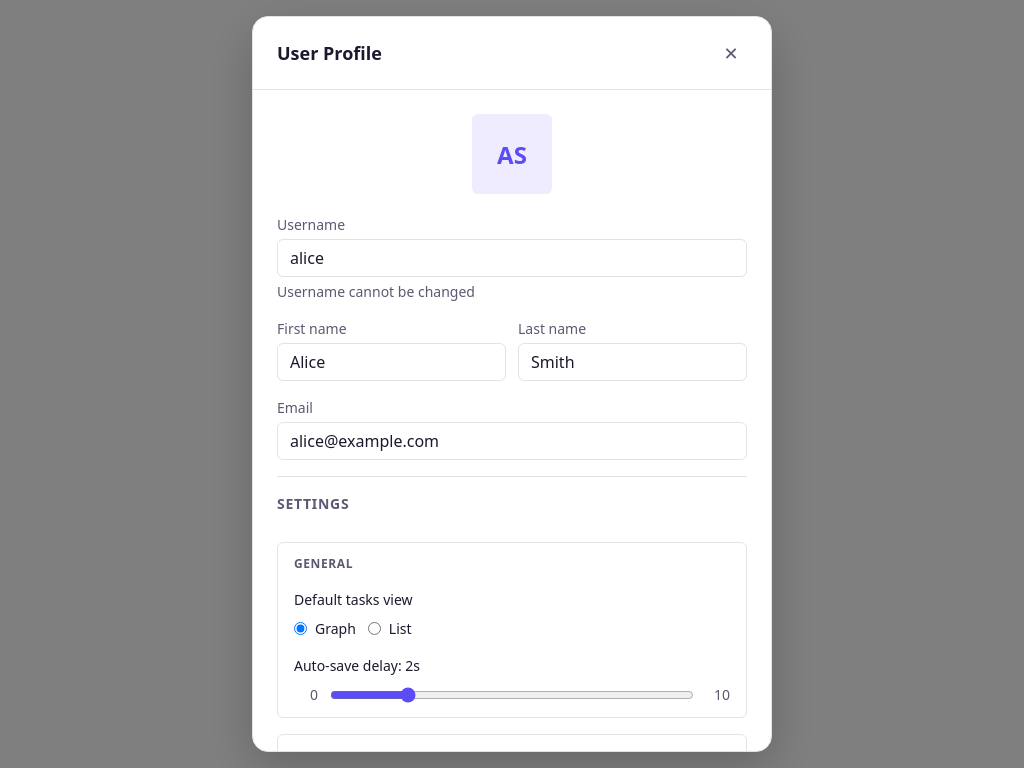
Test: UserProfileModal › shows validation error for invalid email
The image size is (1024, 768).
Replace the text in the field labelled "Email" with "not-an-email" at (512, 441), box x1=277 y1=422 x2=747 y2=460
(page scrolled)
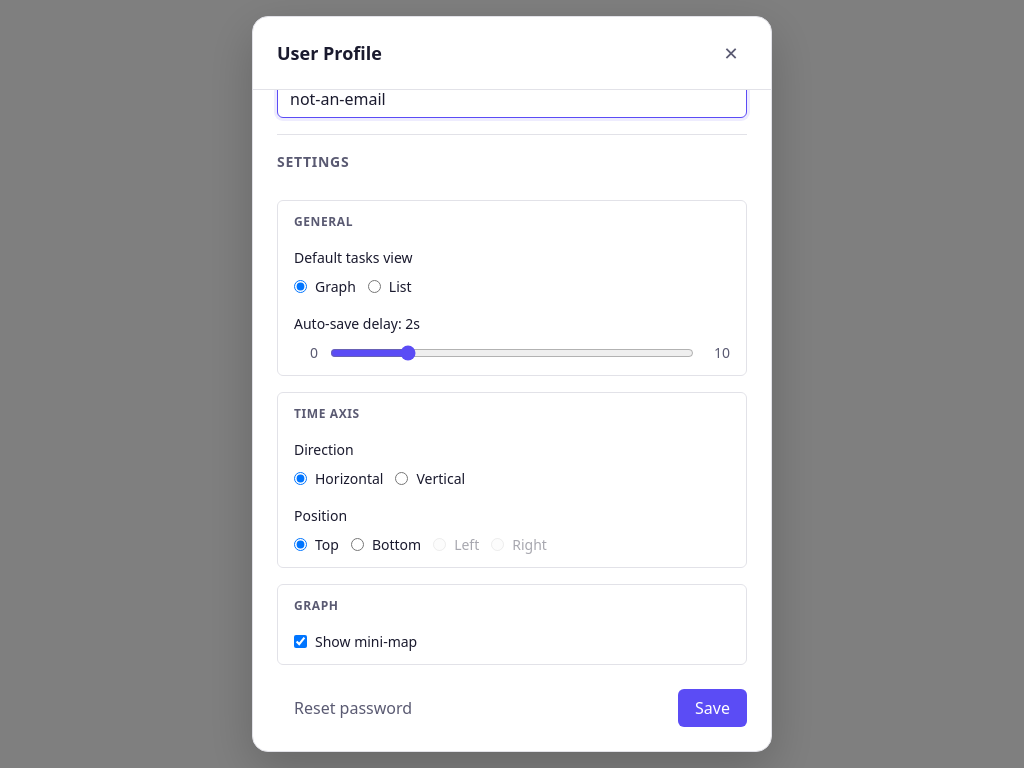
Click the button "Save".
click(713, 708)  # box x1=678 y1=689 x2=747 y2=727
(page scrolled)
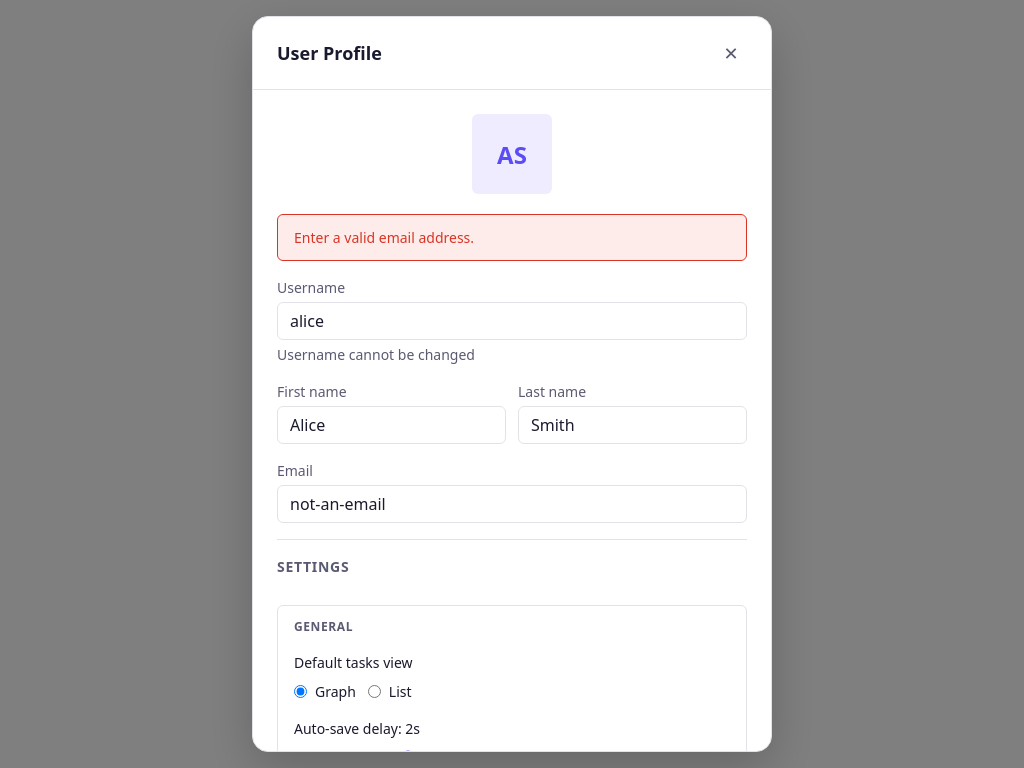
Expected: the message shows "valid email", x1=294 y1=228 x2=474 y2=247
